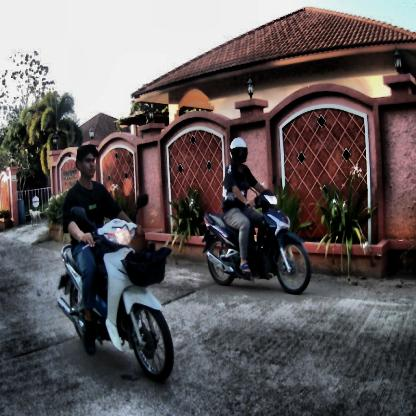not_wear: (78, 146, 98, 184)
wear: (230, 138, 250, 165)
